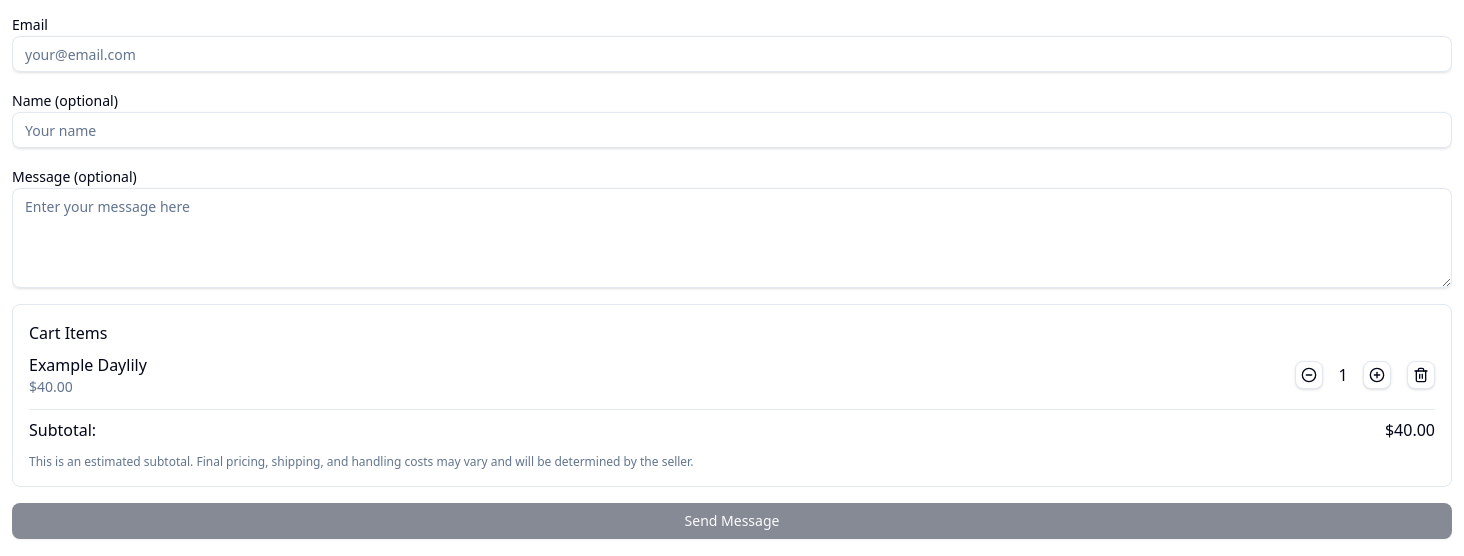
ContactForm › increments the quantity on the first user click while email is focused
Click the field labelled "Email": {"x": 732, "y": 54} left=12, top=36, right=1452, bottom=72
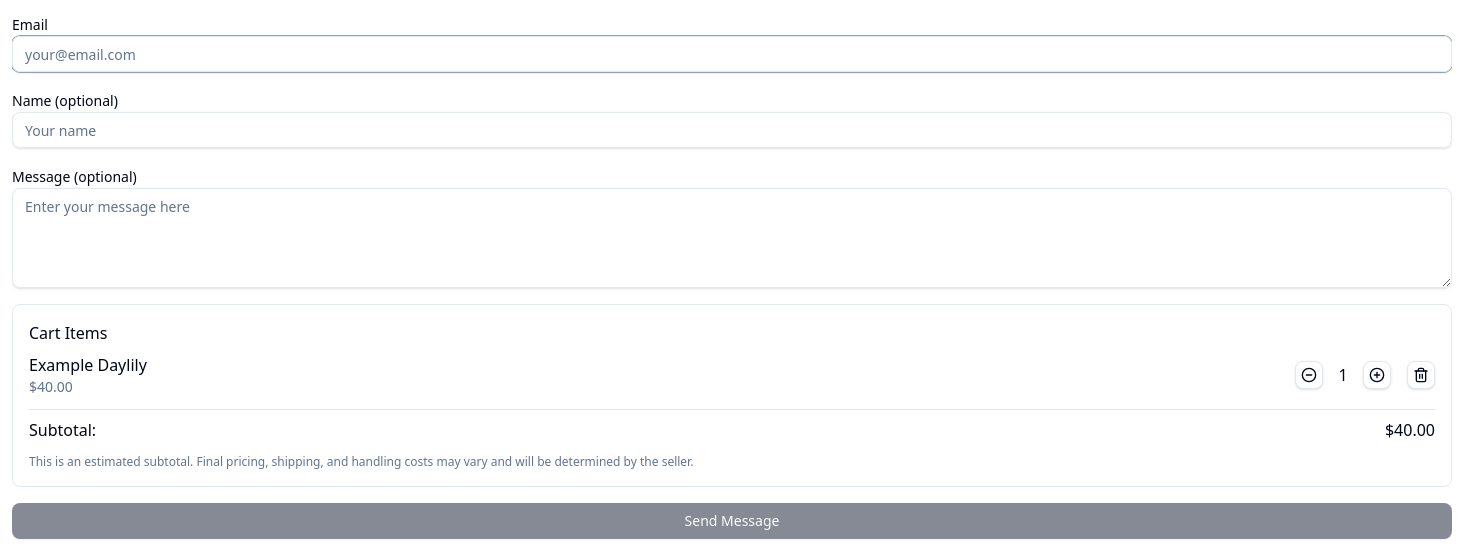
Click the button named "Increase quantity for Example Daylily": {"x": 1377, "y": 375} left=1363, top=361, right=1391, bottom=389
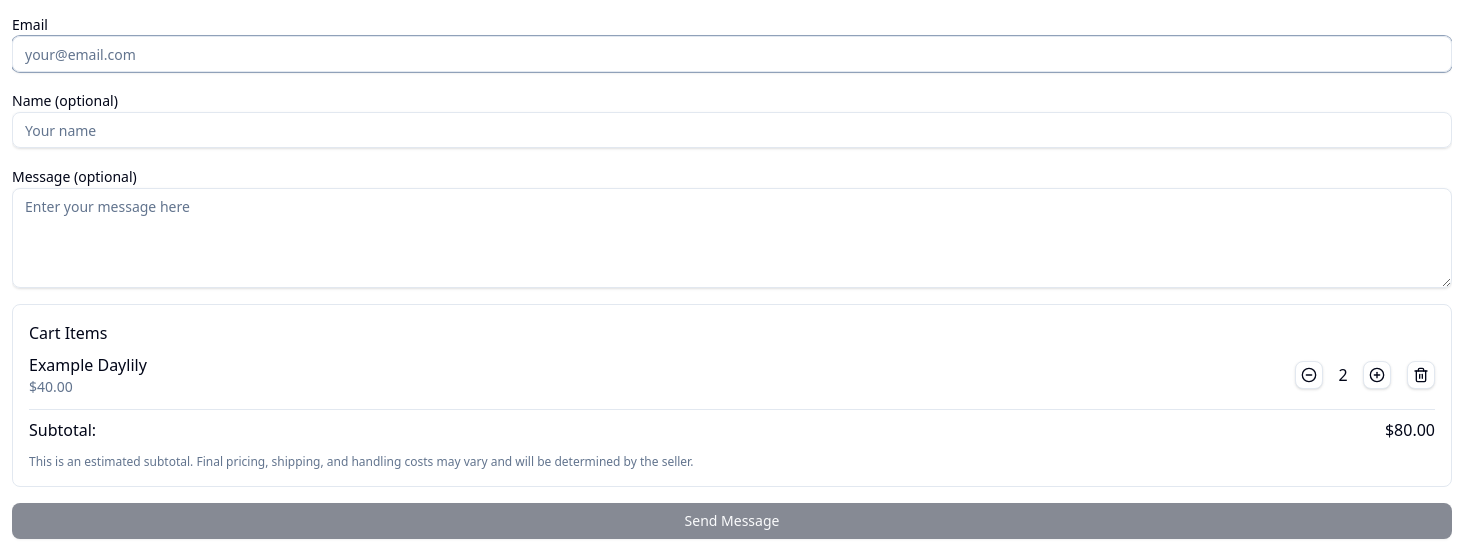
Now the text "2" is shown, box left=1338, top=364, right=1348, bottom=386
